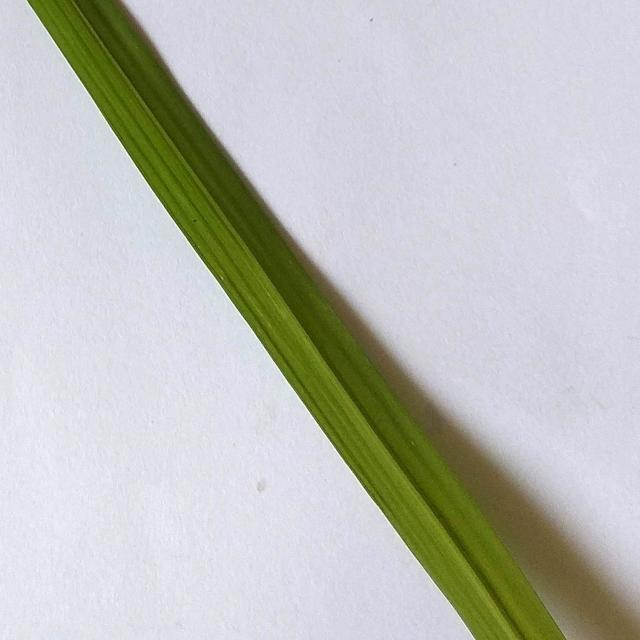Rice_Healthy: (28, 0, 565, 640)
